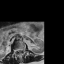CCS_normal: (18, 47, 20, 54)
LFS_normal: (22, 46, 24, 52)
LLS_normal: (20, 46, 22, 53)
RFS_normal: (15, 47, 17, 53)
RLS_normal: (17, 46, 18, 53)
